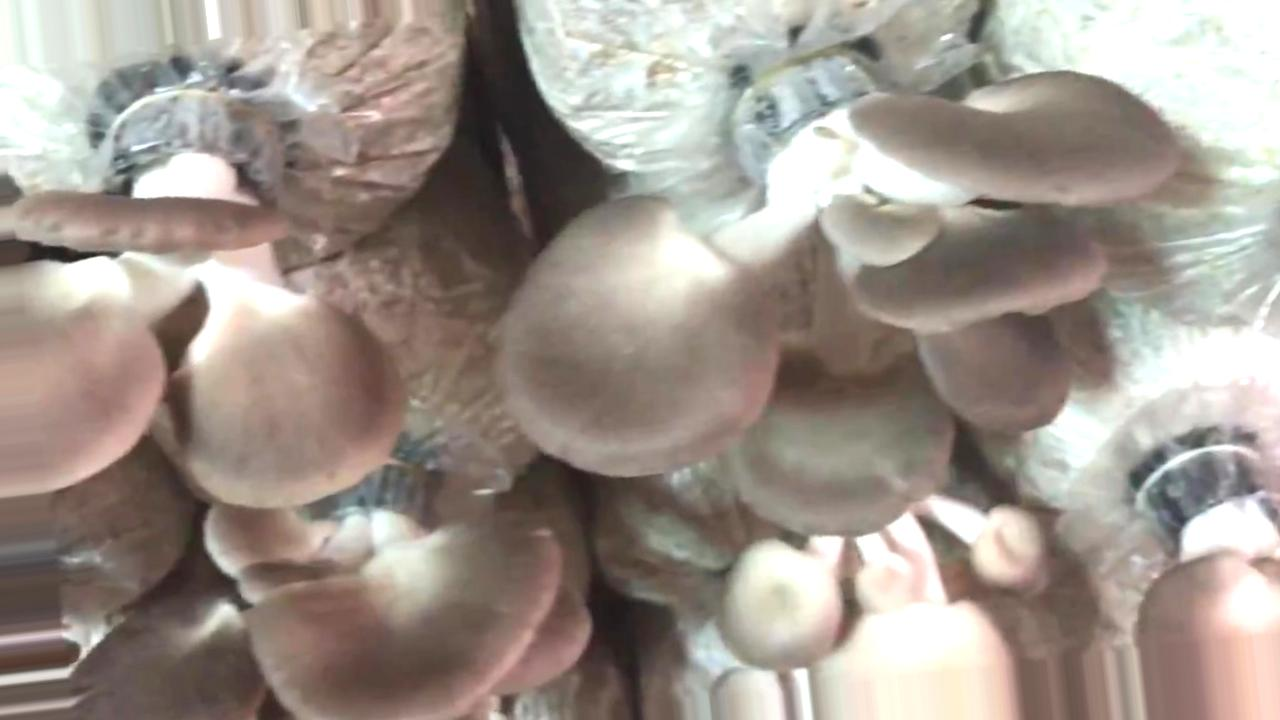nam: (506, 56, 1175, 537), (1, 95, 403, 502), (73, 468, 556, 720), (718, 496, 1039, 720), (1135, 460, 1280, 718)
